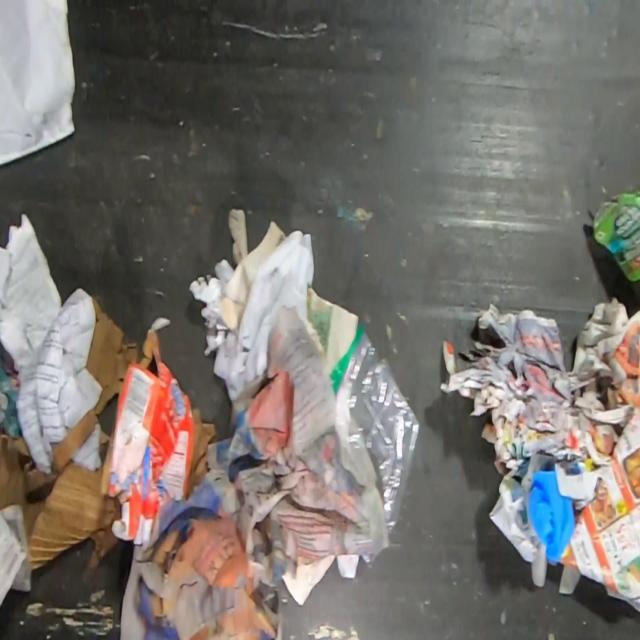cardboard: (98, 328, 195, 550), (28, 406, 131, 570), (0, 428, 57, 560), (85, 295, 143, 413), (593, 185, 640, 293), (188, 407, 221, 498)
soft_plastic: (328, 323, 421, 535), (361, 548, 386, 569)
